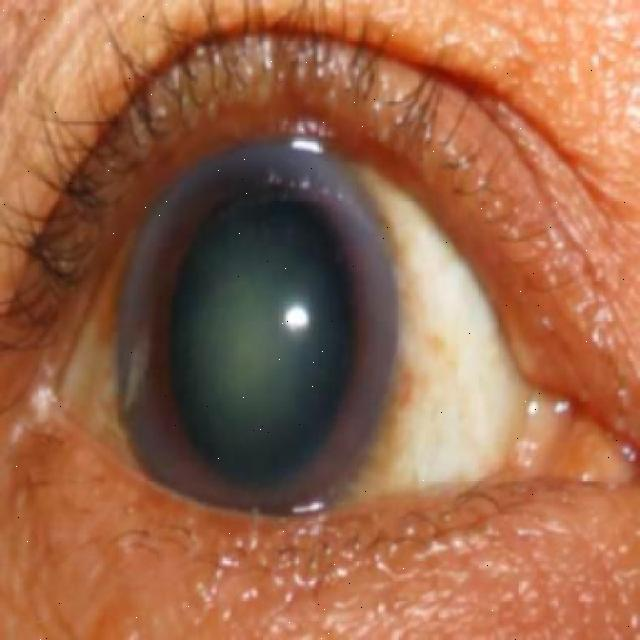Cataract: (115, 140, 398, 528)
